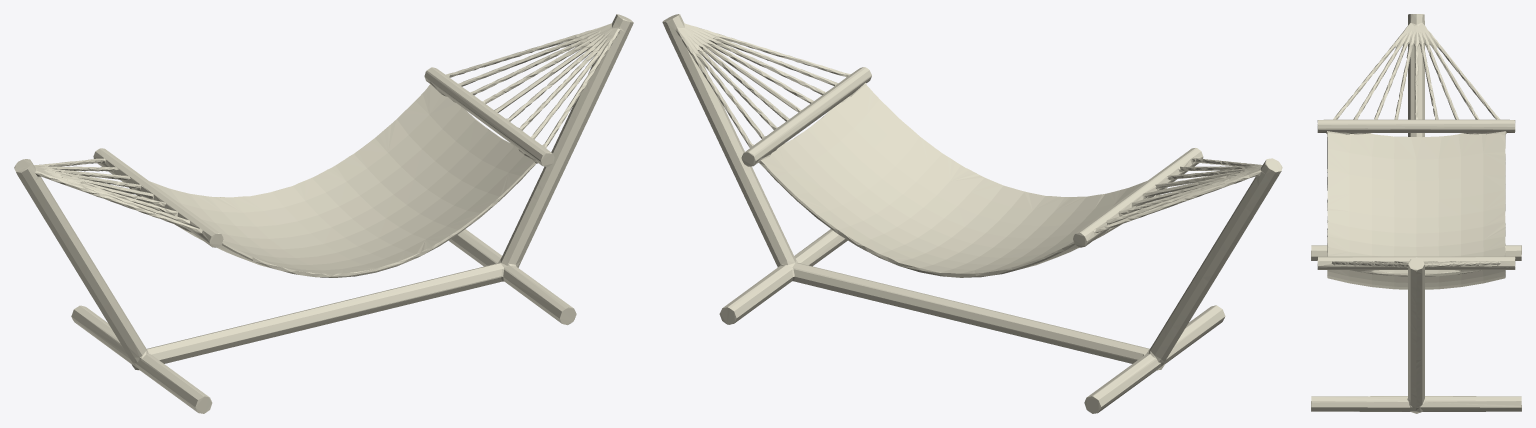
The model's file is NEW_RECOVERY_090_LOD1.fbx.
3 views of the same model, side by side, from view 1: azimuth 30°, elevation 25°; view 2: azimuth 150°, elevation 25°; view 3: azimuth 270°, elevation 25° (orthographic). The views are drawn at different scales.
Visible parts, largest first — view 1: Hammock_complete; view 2: Hammock_complete; view 3: Hammock_complete.
Boxes of the visible parts, x1,y1,x2,y2 form: Hammock_complete: (14,14,633,413); Hammock_complete: (662,14,1282,413); Hammock_complete: (1311,14,1521,413).
Bounding box in the file's own units: 372 × 130 × 137.
